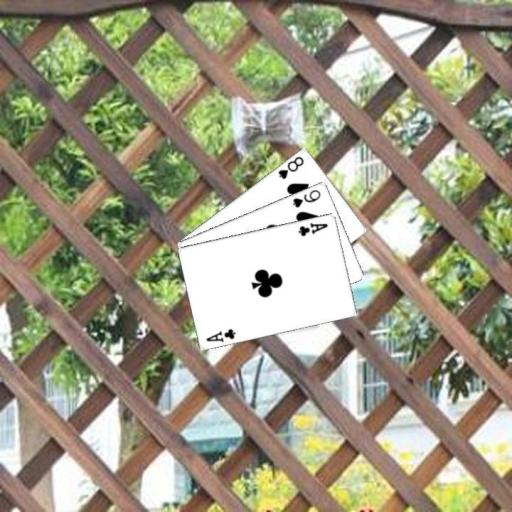8S: (275, 153, 305, 181)
9S: (290, 186, 322, 209)
AC: (296, 219, 329, 238), (204, 325, 238, 343)
